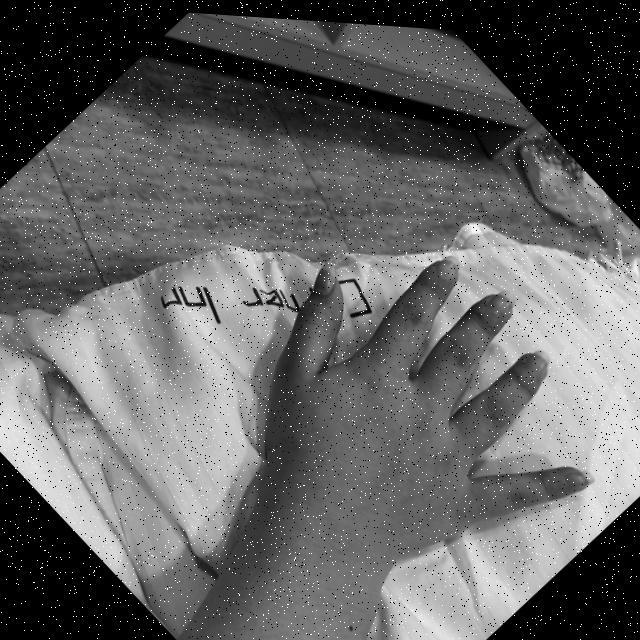no-gloves: (205, 166, 640, 628)
